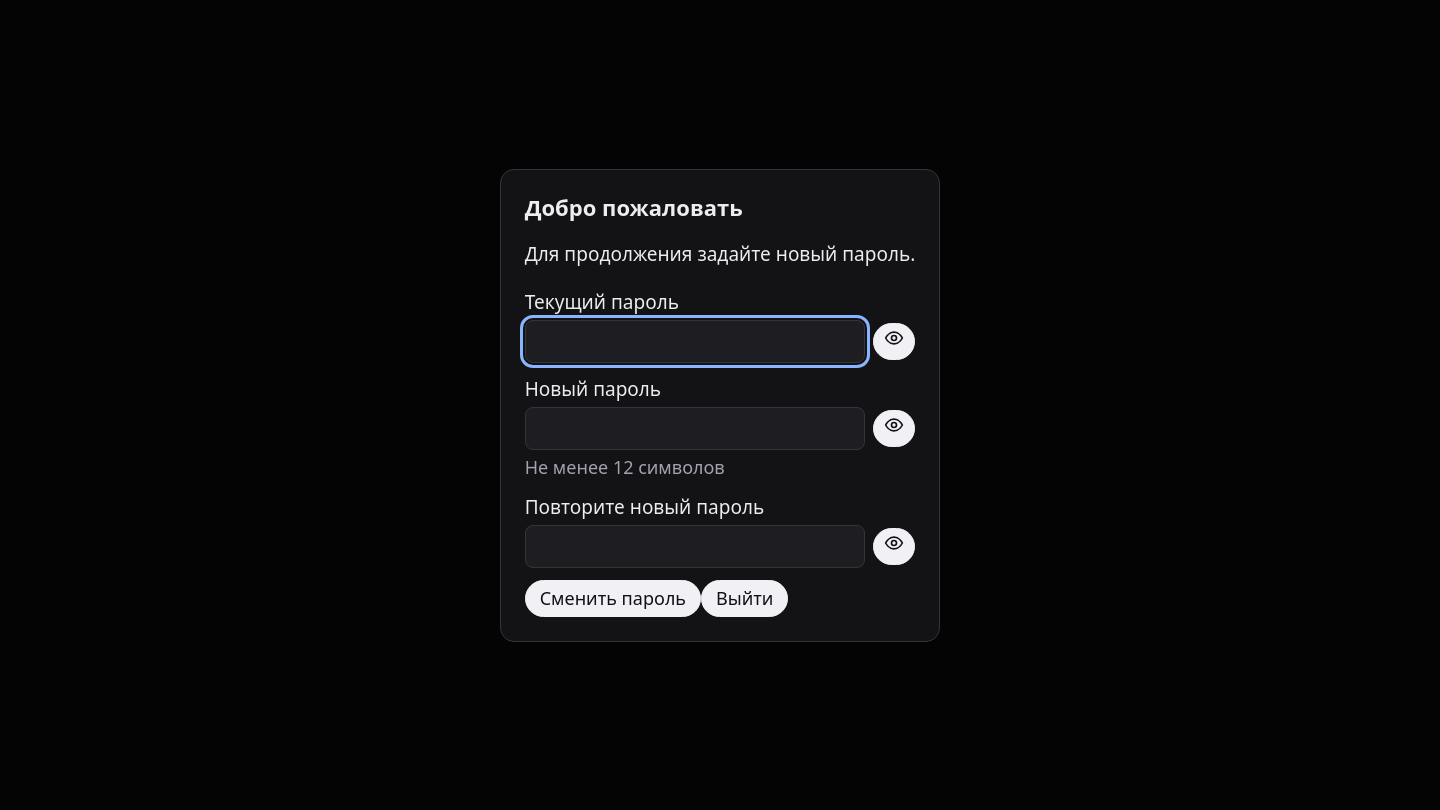
Test: after password change and login (T23) › fr66_ac75_change_password_then_root_then_no_role_by_me
This screenshot has width=1440, height=810.
Type "Old-Password-123" into the password field labelled "Текущий пароль" at (695, 341), box [525,320,865,362]
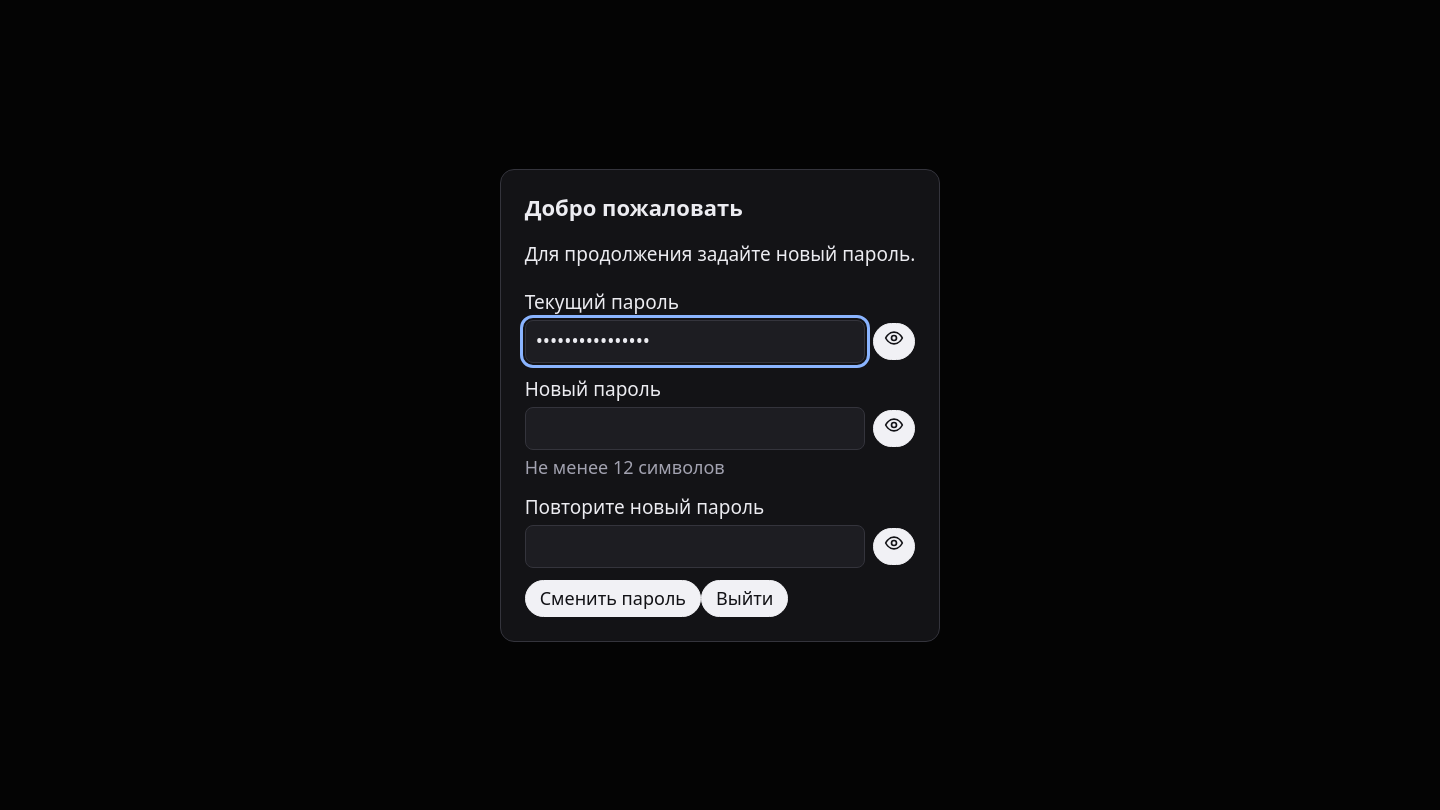
Type "New-Password-12345" into the password field labelled "Новый пароль" at (695, 428), box [525,407,865,450]
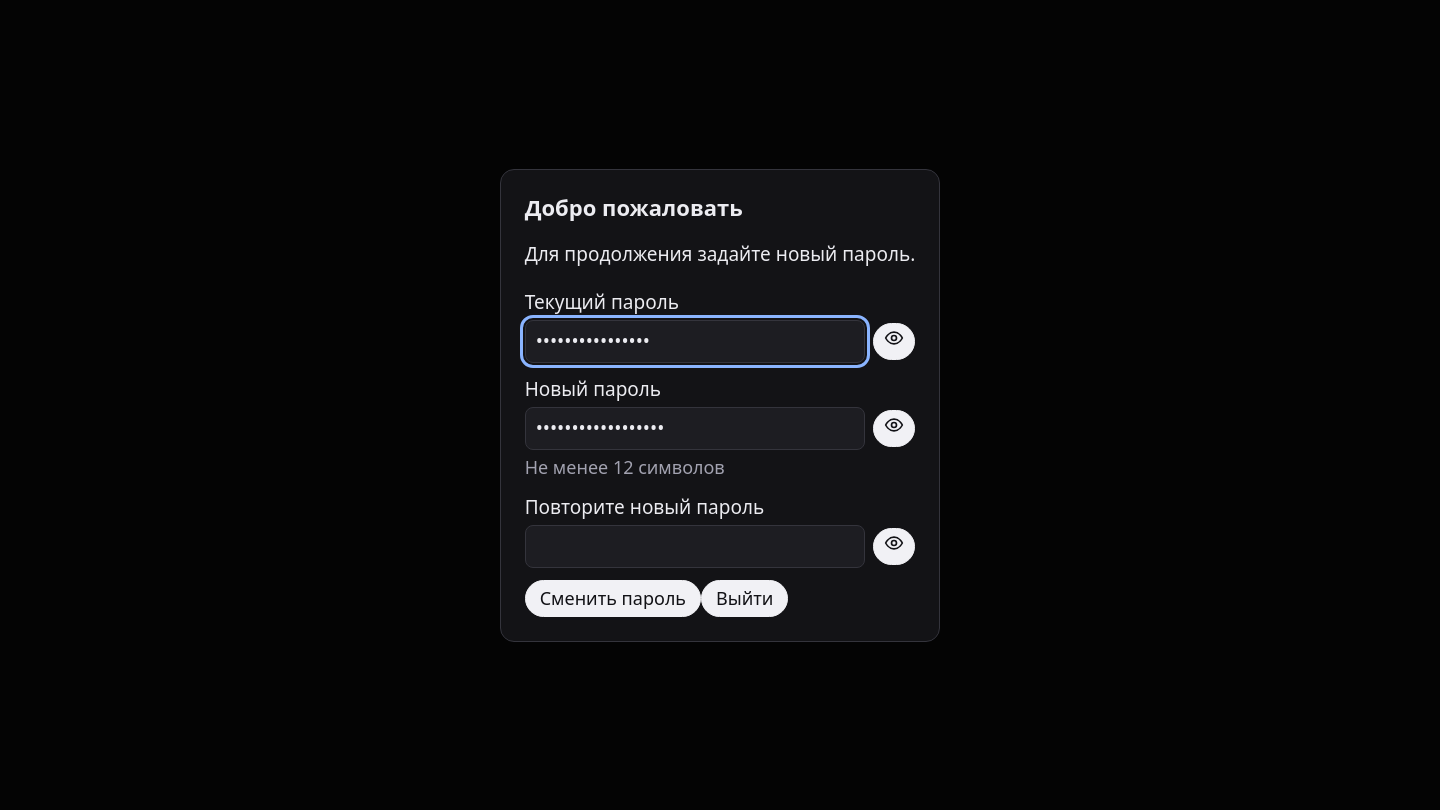
Type "New-Password-12345" into the password field labelled "Повторите новый пароль" at (695, 546), box [525,525,865,568]
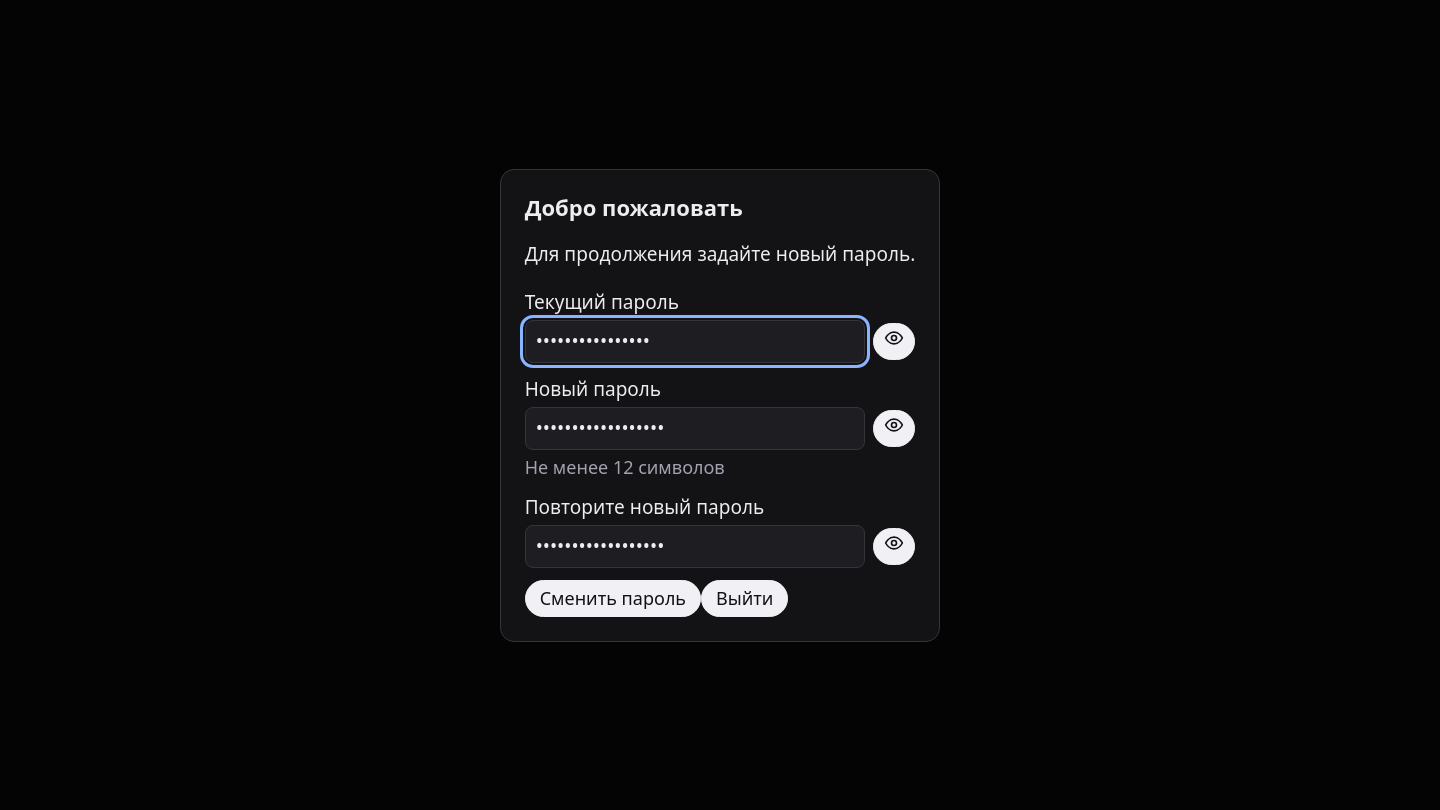
Click the submit button at (613, 598), box [525,580,701,616]
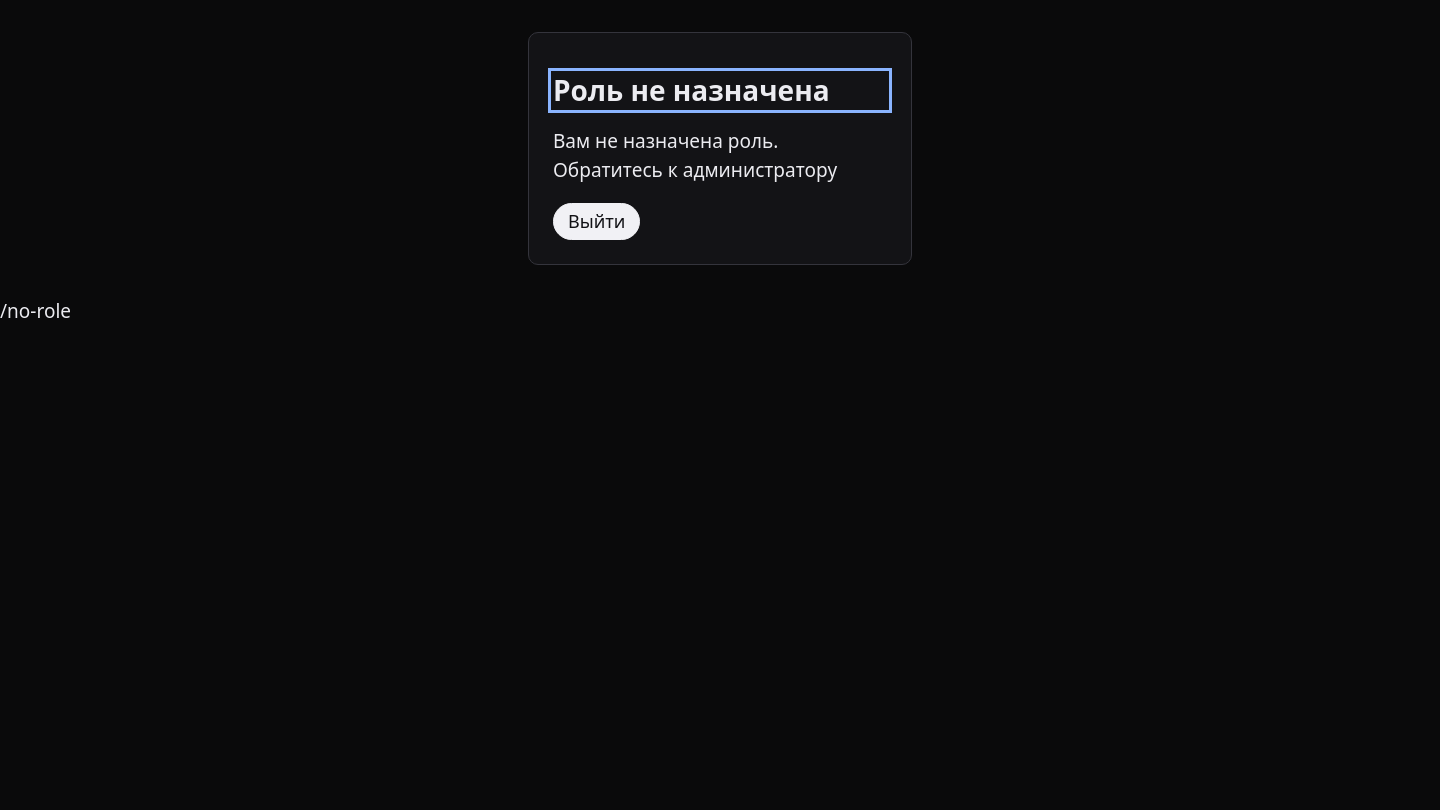
Expected: the text with test id "where" reads "/no-role", [0,298,71,324]
